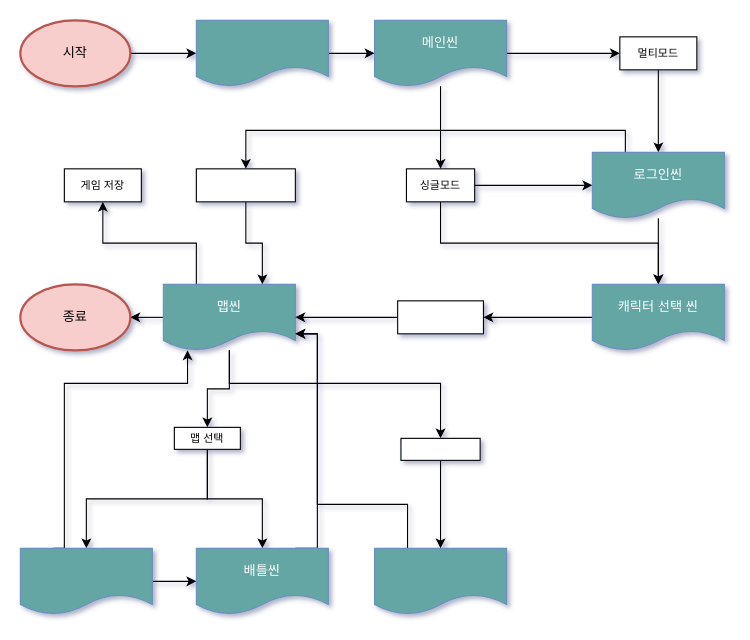
Image size: 750x640. Some labels were removed from this diagram. Each missing label, with the centre of its shape:
게임 불러오기: (245,185)
로딩씬: (261,52)
상점 선택: (440,448)
상점씬: (440,580)
캐릭터 선택: (440,317)
히든맵 씬: (85,580)
